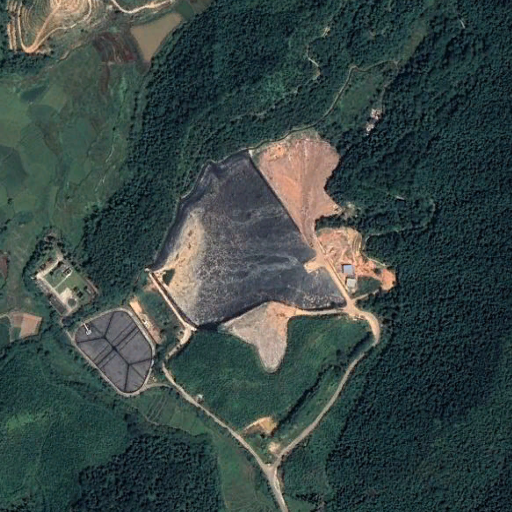lf: (145, 153, 346, 333)
